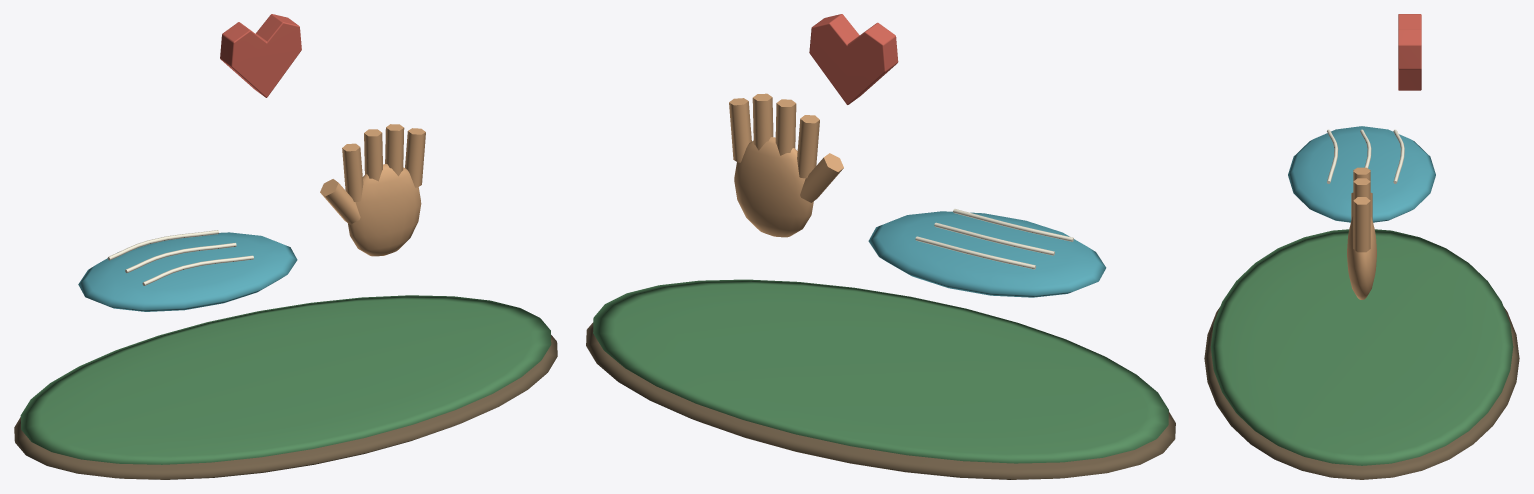
The model's file is complete-third-spring-excuse.glb.
The picture shows the model from 3 angles, left to right: view 1: azimuth 30°, elevation 25°; view 2: azimuth 150°, elevation 25°; view 3: azimuth 270°, elevation 25°; orthographic projection. The views are drawn at different scales.
Visible parts, largest first — view 1: complete-third-spring-excuse_surface_01, complete-third-spring-excuse_surface_02, complete-third-spring-excuse_surface_04, complete-third-spring-excuse_surface_00, complete-third-spring-excuse_surface_05, complete-third-spring-excuse_surface_03; view 2: complete-third-spring-excuse_surface_01, complete-third-spring-excuse_surface_02, complete-third-spring-excuse_surface_04, complete-third-spring-excuse_surface_00, complete-third-spring-excuse_surface_05, complete-third-spring-excuse_surface_03; view 3: complete-third-spring-excuse_surface_01, complete-third-spring-excuse_surface_02, complete-third-spring-excuse_surface_00, complete-third-spring-excuse_surface_04, complete-third-spring-excuse_surface_05, complete-third-spring-excuse_surface_03.
Boxes of the visible parts, box(x1,y1,x2,y2) form: complete-third-spring-excuse_surface_01: box(20, 295, 551, 464); complete-third-spring-excuse_surface_02: box(78, 232, 297, 311); complete-third-spring-excuse_surface_04: box(320, 124, 425, 256); complete-third-spring-excuse_surface_00: box(14, 335, 557, 479); complete-third-spring-excuse_surface_05: box(220, 14, 301, 97); complete-third-spring-excuse_surface_03: box(107, 230, 253, 285); complete-third-spring-excuse_surface_01: box(593, 279, 1168, 463); complete-third-spring-excuse_surface_02: box(868, 211, 1106, 297); complete-third-spring-excuse_surface_04: box(729, 93, 843, 237); complete-third-spring-excuse_surface_00: box(586, 322, 1175, 479); complete-third-spring-excuse_surface_05: box(809, 14, 898, 104); complete-third-spring-excuse_surface_03: box(915, 209, 1073, 269); complete-third-spring-excuse_surface_01: box(1210, 229, 1513, 465); complete-third-spring-excuse_surface_02: box(1288, 126, 1435, 222); complete-third-spring-excuse_surface_00: box(1204, 307, 1519, 479); complete-third-spring-excuse_surface_04: box(1347, 167, 1376, 299); complete-third-spring-excuse_surface_05: box(1398, 14, 1421, 90); complete-third-spring-excuse_surface_03: box(1327, 129, 1404, 183).
Size of the model in its own units: 4.56 by 3.07 by 2.5.
